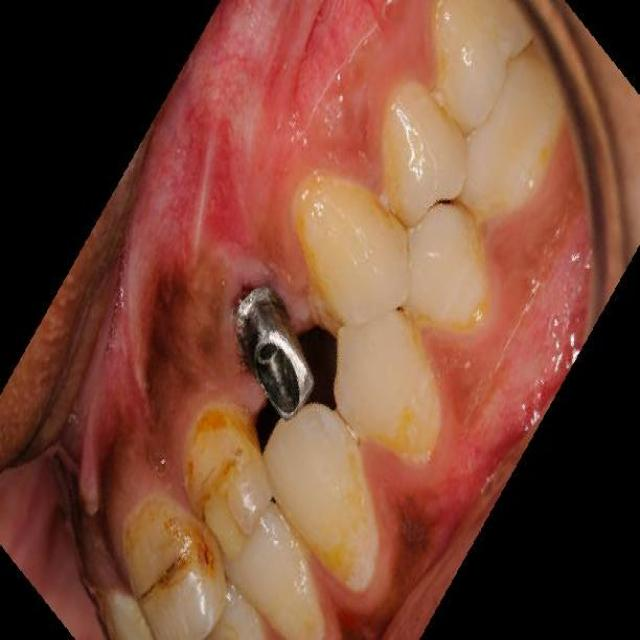caries: (182, 425, 266, 545), (132, 521, 216, 632)
